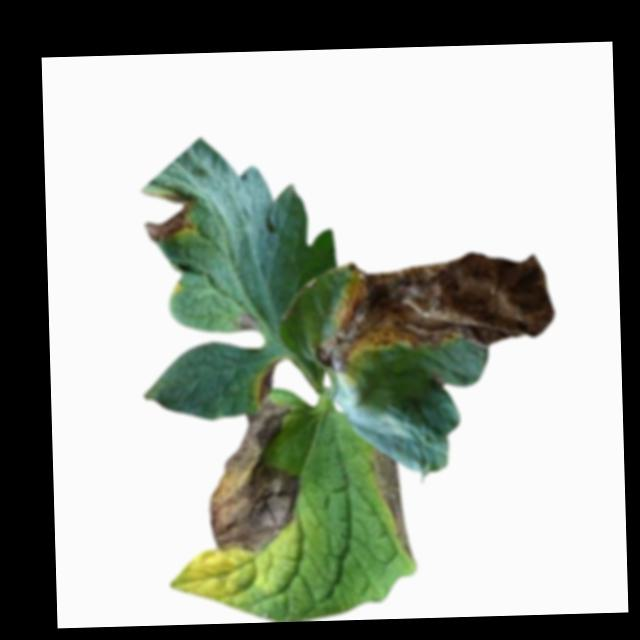Early_blight: (314, 251, 556, 374), (204, 402, 294, 551), (373, 445, 413, 557), (140, 187, 202, 242), (255, 357, 281, 401), (238, 313, 263, 332), (430, 372, 445, 390)
